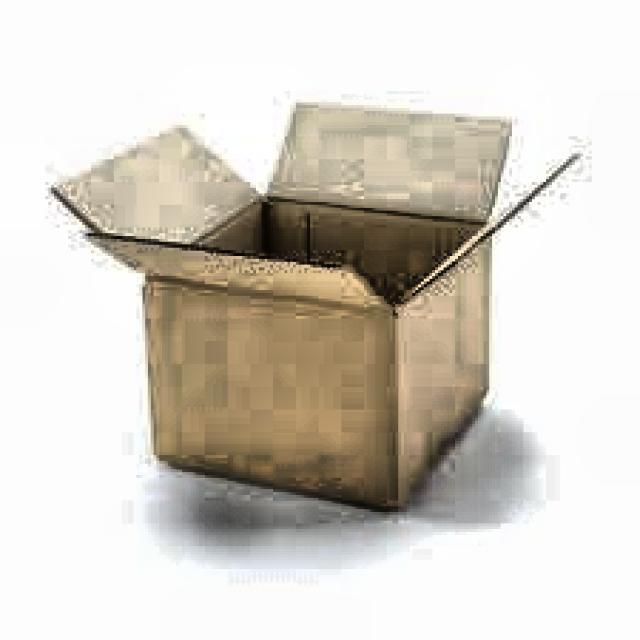cardboard: (48, 97, 580, 510)
